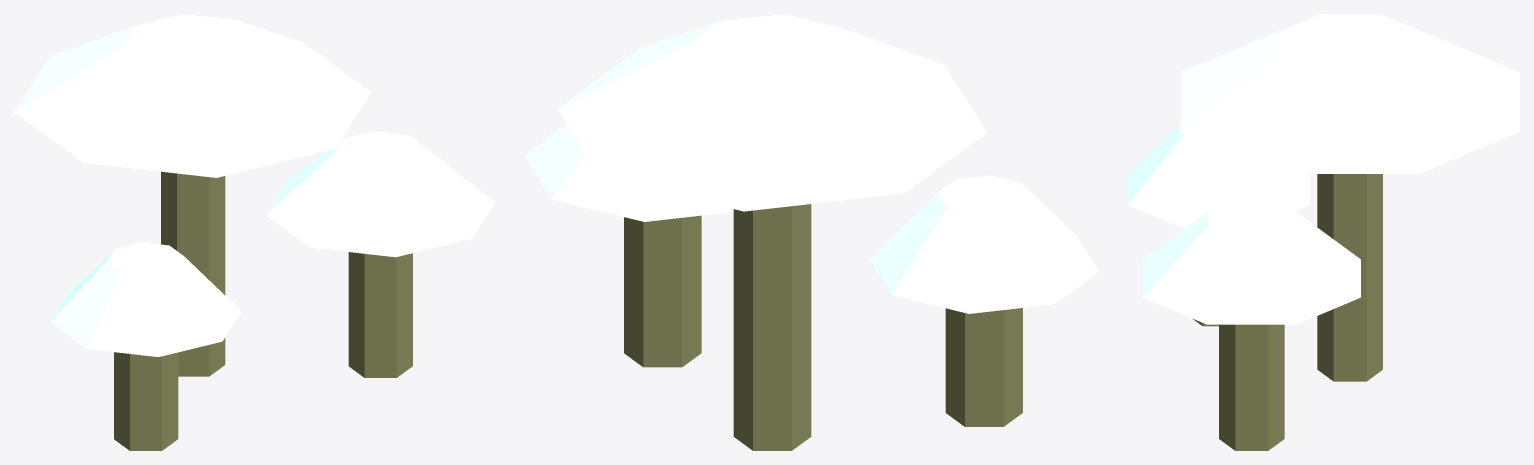
File: glowcap.glb
The picture shows the model from 3 angles, left to right: view 1: azimuth 30°, elevation 25°; view 2: azimuth 150°, elevation 25°; view 3: azimuth 270°, elevation 25°; orthographic projection. The views are drawn at different scales.
Visible parts, largest first — view 1: caps; view 2: caps; view 3: caps.
Boxes of the visible parts, x1,y1,x2,y2 form: caps: [14, 14, 495, 450]; caps: [524, 14, 1099, 450]; caps: [1128, 14, 1519, 450].
Bounding box in the file's own units: 0.7549 × 0.55 × 0.5973.
